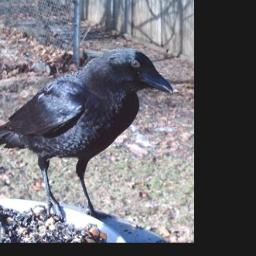Crow: (0, 47, 173, 222)
